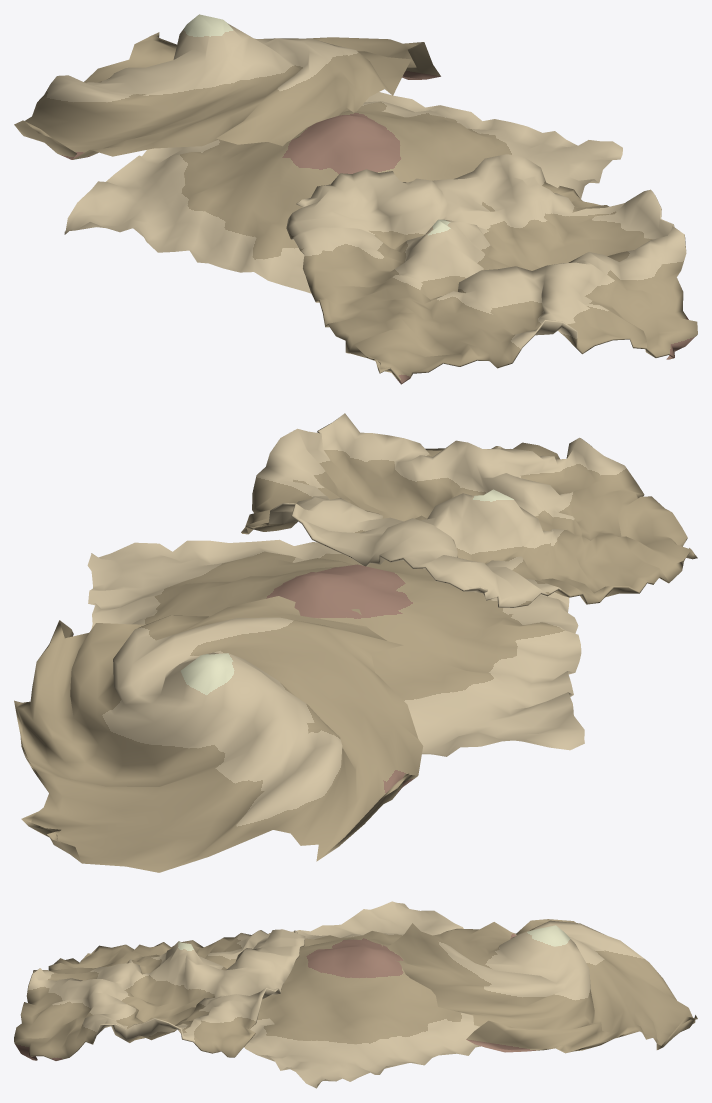
The model's file is papelAceite_padre.fbx.
3 views of the same model, one above another, from view 1: azimuth 30°, elevation 25°; view 2: azimuth 150°, elevation 25°; view 3: azimuth 270°, elevation 25° (orthographic). The views are drawn at different scales.
Parts seen in each view (by area): view 1: papelAceite_padre; view 2: papelAceite_padre; view 3: papelAceite_padre.
Part boxes in pixels (<box>): papelAceite_padre: <box>14,14,697,384</box>; papelAceite_padre: <box>14,413,697,872</box>; papelAceite_padre: <box>14,901,697,1088</box>.
Bounding box in the file's own units: 101 × 23.58 × 159.
